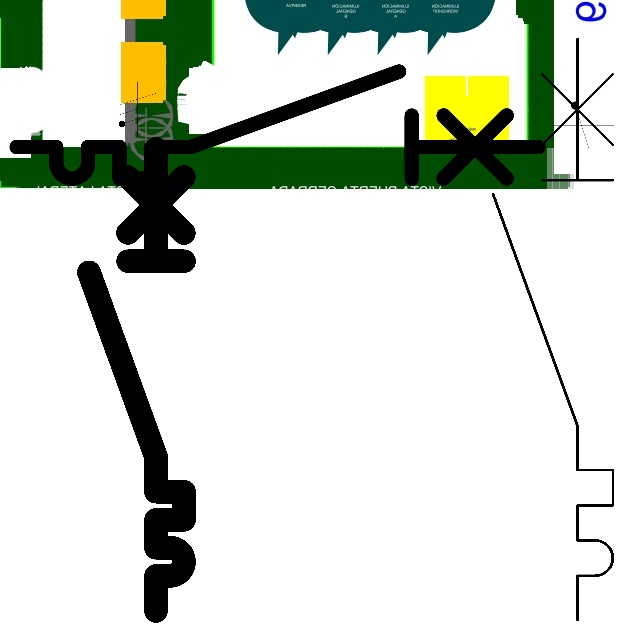interruptor_termomagnetico: (478, 24, 628, 635), (3, 58, 551, 192), (77, 137, 196, 623)
